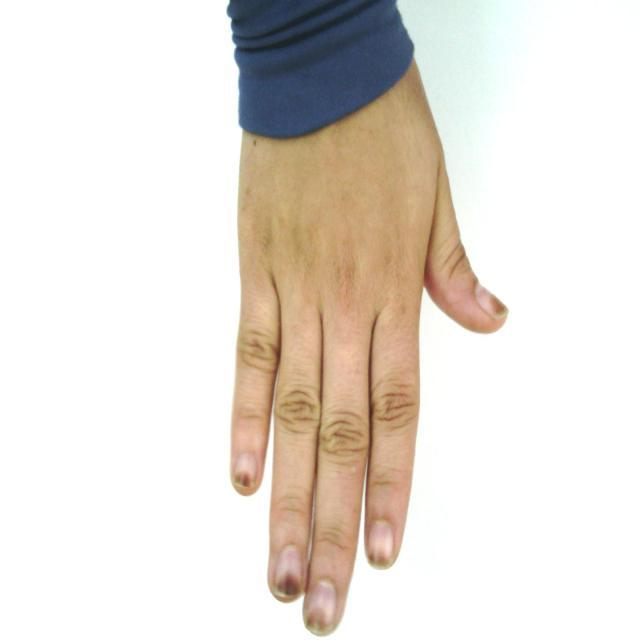Fingernail: (274, 546, 304, 601), (307, 581, 337, 636), (368, 521, 394, 569), (476, 285, 508, 319), (235, 453, 257, 487)
